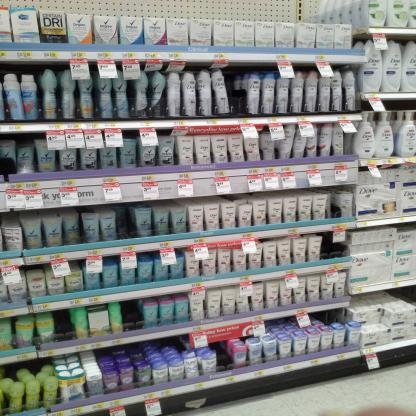Void: (227, 71, 248, 115), (117, 210, 135, 237), (123, 304, 141, 326), (56, 314, 72, 337), (325, 243, 346, 259), (319, 312, 338, 325), (219, 348, 230, 370), (404, 285, 415, 302)
